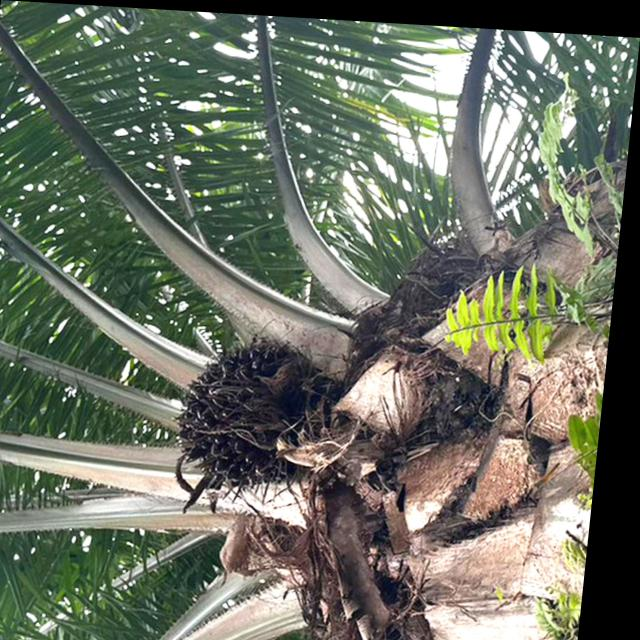almost: (175, 326, 332, 491)
